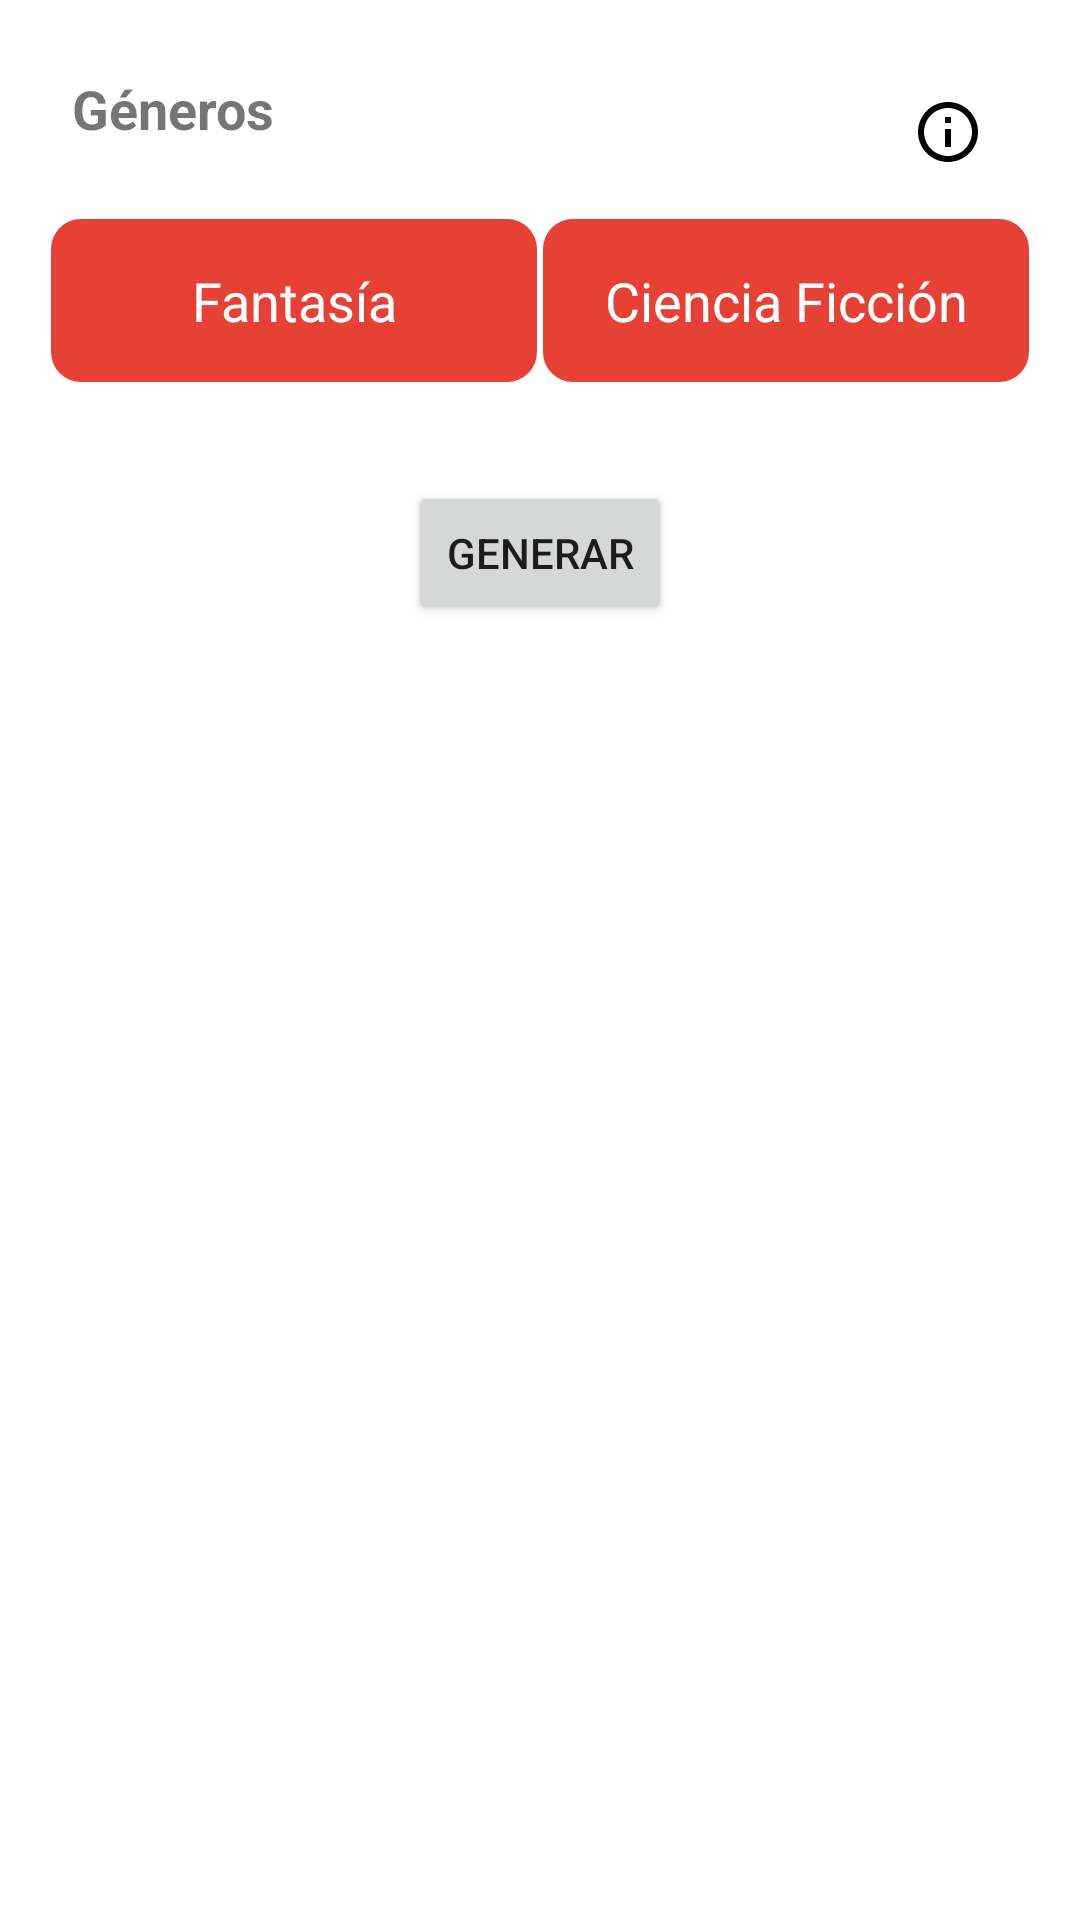

Named icons in this screenshot (1080 × 1920) and their centers, point (x, y):
info: point (948, 132)
